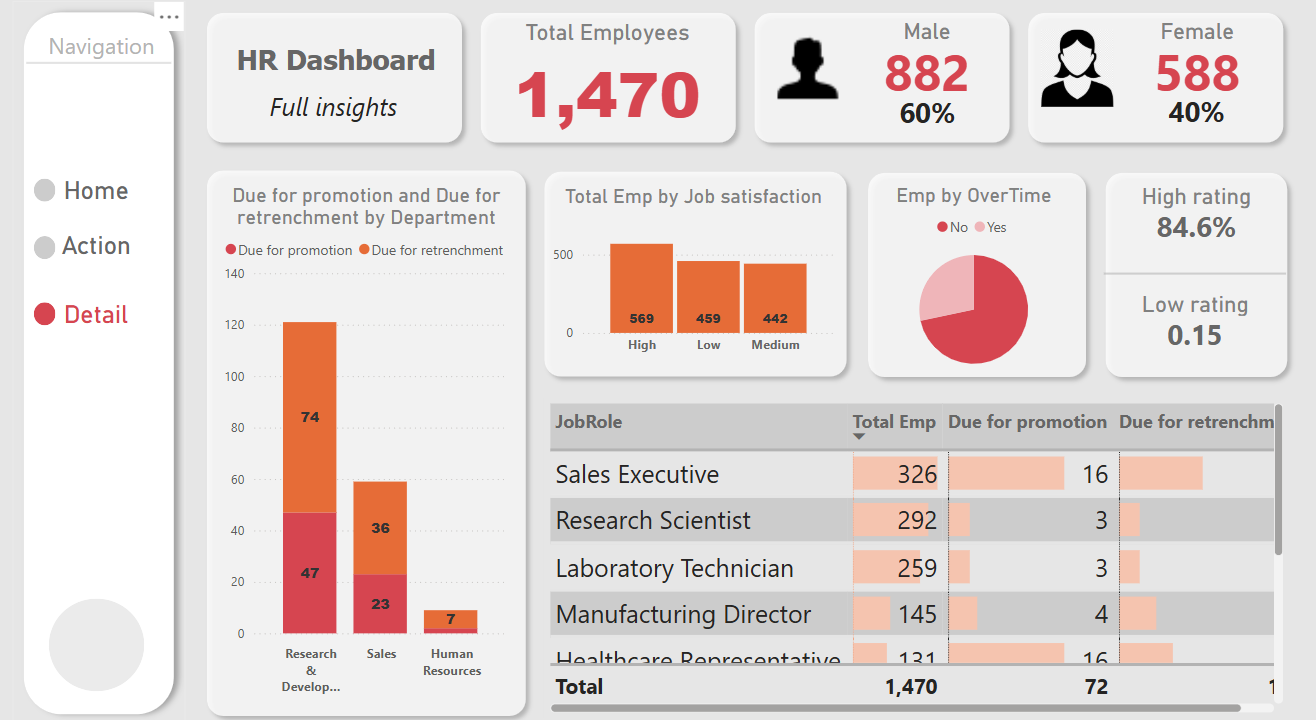

This screenshot's page, from the dashboard's own definition file:
{"tool":"powerbi","page":{"name":"Details","canvas":[1280,720],"ordinal":1},"visuals":[{"type":"shape","box":[16.5,9.6,166.5,699.2],"z":0},{"type":"shape","box":[195.4,12.4,264.3,143.1],"z":1000},{"type":"shape","box":[459.7,12.4,264.3,143.1],"z":2000},{"type":"shape","box":[724,12.4,264.3,143.1],"z":3000},{"type":"shape","box":[988.2,12.4,264.3,143.1],"z":4000},{"type":"shape","box":[195.2,164.4,325.9,544.6],"z":5000},{"type":"shape","box":[521.1,165.9,309.7,215.8],"z":6000},{"type":"shape","box":[833.6,166.7,228.3,215],"z":7000},{"type":"shape","box":[1063.1,166.7,193.3,215],"z":8000},{"type":"textbox","box":[210,45,238.3,51.7],"z":9000},{"type":"textbox","box":[36.9,33,130.5,51.4],"z":10000},{"type":"textbox","box":[203.3,90,251.7,55],"z":11000},{"type":"card","title":"Total Employees","fields":{"Values":["All Measures.Total Emp"]},"box":[468,27.5,246.4,112.9],"z":13000},{"type":"card","title":"Male","fields":{"Values":["All Measures.Male"]},"box":[814.8,26.2,170.7,75.7],"z":14000},{"type":"card","fields":{"Values":["All Measures.Male %"]},"box":[834.1,90.8,132.1,55.1],"z":15000},{"type":"card","title":"Female","fields":{"Values":["All Measures.Female"]},"box":[1068.7,26.2,183.1,75.7],"z":16000},{"type":"card","fields":{"Values":["All Measures.Female %"]},"box":[1083.9,90.8,152.8,53.7],"z":17000},{"type":"image","box":[736.3,26.2,95,90.8],"z":18000},{"type":"image","box":[1004.7,33,79.8,84],"z":19000},{"type":"columnChart","fields":{"Category":["HR Analytics Data.Department"],"Y":["All Measures.Due for promotion","All Measures.Due for retirment"]},"box":[216.3,185.9,284.8,501.1],"z":20000},{"type":"tableEx","fields":{"Values":["HR Analytics Data.JobRole","All Measures.Total Emp","All Measures.Due for promotion","All Measures.Due for retirment"]},"box":[529.5,393.8,718.8,308.1],"z":21000},{"type":"columnChart","fields":{"Category":["HR Analytics Data.Job satisfaction"],"Y":["All Measures.Total Emp"]},"box":[532.8,186.4,281.8,173.2],"z":22000},{"type":"pieChart","title":"Emp by OverTime","fields":{"Category":["HR Analytics Data.OverTime"],"Y":["All Measures.Total Emp"]},"box":[820.3,186,248.9,192.1],"z":23000},{"type":"card","title":"High rating","fields":{"Values":["All Measures.% High emp rating"]},"box":[1066.7,186,186,61.6],"z":24000},{"type":"card","title":"Low rating","fields":{"Values":["All Measures.% Low emp rating"]},"box":[1065.5,289.9,186,61.6],"z":25000},{"type":"shape","box":[1070.1,265.7,176.1,14.7],"z":26000},{"type":"shape","box":[36.9,300.7,21.1,22.4],"z":27000},{"type":"actionButton","title":"Detail","box":[27.7,298,139.8,39.6],"z":28000},{"type":"shape","box":[36.9,236,21.1,22.4],"z":29000},{"type":"actionButton","title":"Action","box":[27.7,232.1,139.8,58],"z":30000},{"type":"shape","box":[36.9,180.7,21.1,22.4],"z":31000},{"type":"actionButton","title":"Home","box":[27.7,178,139.8,54.1],"z":32000},{"type":"shape","box":[51.4,586.8,92.3,89.7],"z":33000},{"type":"shape","box":[30.2,61.6,140.1,15.7],"z":34000}]}

Visuals, with their boxes on the page's 1280x720 design canvas (x1, y1, x2, y2). These are canvas units, not pixel positions in the 1316x720 screenshot, which may show the page scaled, cropped or inside an application window:
shape: locate(16, 10, 183, 709)
shape: locate(195, 12, 460, 156)
shape: locate(460, 12, 724, 156)
shape: locate(724, 12, 988, 156)
shape: locate(988, 12, 1252, 156)
shape: locate(195, 164, 521, 709)
shape: locate(521, 166, 831, 382)
shape: locate(834, 167, 1062, 382)
shape: locate(1063, 167, 1256, 382)
textbox: locate(210, 45, 448, 97)
textbox: locate(37, 33, 167, 84)
textbox: locate(203, 90, 455, 145)
"Total Employees" card: locate(468, 28, 714, 140)
"Male" card: locate(815, 26, 986, 102)
card - All Measures.Male %: locate(834, 91, 966, 146)
"Female" card: locate(1069, 26, 1252, 102)
card - All Measures.Female %: locate(1084, 91, 1237, 144)
image: locate(736, 26, 831, 117)
image: locate(1005, 33, 1084, 117)
columnChart - HR Analytics Data.Department x All Measures.Due for promotion: locate(216, 186, 501, 687)
tableEx - HR Analytics Data.JobRole x All Measures.Total Emp: locate(530, 394, 1248, 702)
columnChart - HR Analytics Data.Job satisfaction x All Measures.Total Emp: locate(533, 186, 815, 360)
"Emp by OverTime" pieChart: locate(820, 186, 1069, 378)
"High rating" card: locate(1067, 186, 1253, 248)
"Low rating" card: locate(1066, 290, 1252, 352)
shape: locate(1070, 266, 1246, 280)
shape: locate(37, 301, 58, 323)
"Detail" actionButton: locate(28, 298, 168, 338)
shape: locate(37, 236, 58, 258)
"Action" actionButton: locate(28, 232, 168, 290)
shape: locate(37, 181, 58, 203)
"Home" actionButton: locate(28, 178, 168, 232)
shape: locate(51, 587, 144, 676)
shape: locate(30, 62, 170, 77)
